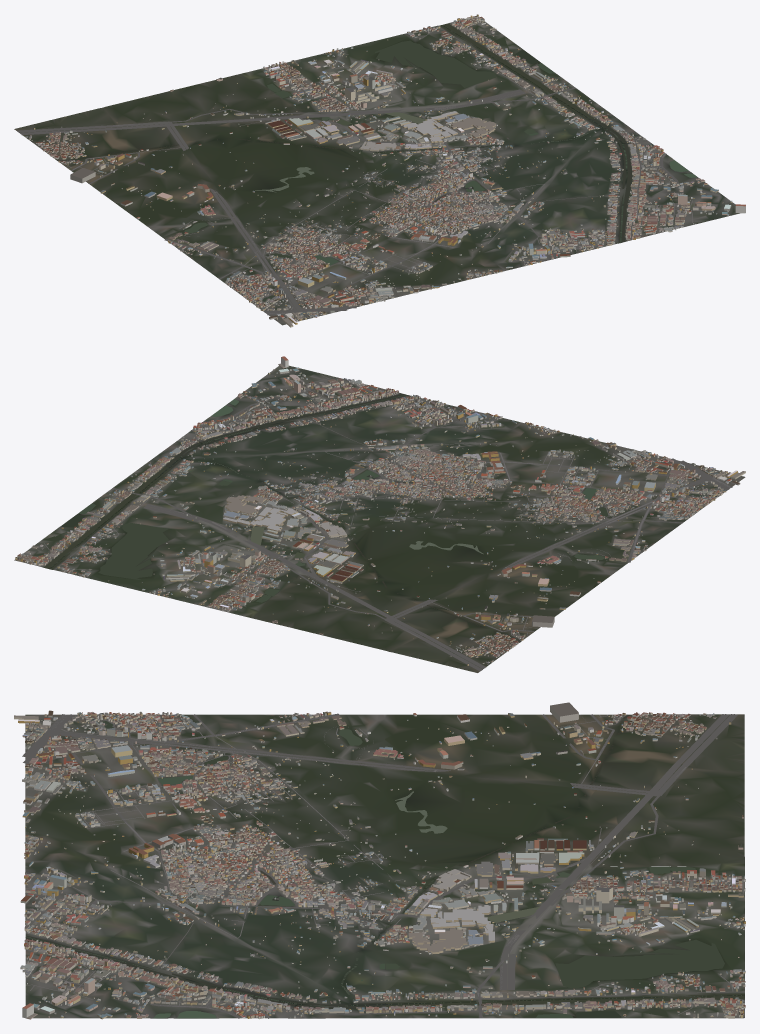
3 views of the same model, one above another, from view 1: azimuth 30°, elevation 25°; view 2: azimuth 150°, elevation 25°; view 3: azimuth 270°, elevation 25° (orthographic). The views are drawn at different scales.
Visible parts, largest first — view 1: ground, buildings, roads, water; view 2: ground, buildings, roads, water; view 3: ground, buildings, roads, water.
Boxes of the visible parts, box(x1,y1,x2,y2) form: ground: box(14, 19, 740, 325); buildings: box(25, 14, 745, 327); roads: box(17, 22, 715, 322); water: box(57, 23, 697, 301); ground: box(14, 365, 745, 672); buildings: box(15, 356, 745, 665); roads: box(35, 375, 732, 671); water: box(44, 393, 706, 641); ground: box(25, 714, 744, 1018); buildings: box(14, 702, 745, 1019); roads: box(22, 713, 744, 1018); water: box(25, 714, 744, 1018).
Bounding box in the file's own units: 2868 × 56.54 × 2853.
